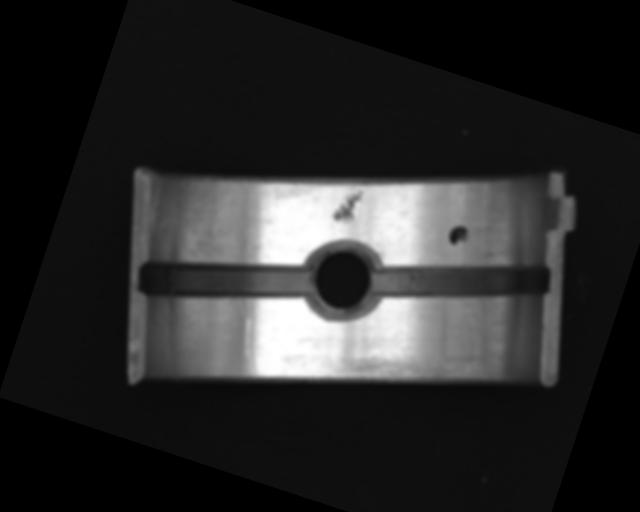blot: (446, 221, 471, 247)
bruise: (330, 183, 365, 227)
gap: (369, 217, 556, 346), (135, 221, 314, 341)
hole: (295, 237, 390, 329)
nick: (230, 319, 273, 380)
scratch: (326, 313, 493, 425)
